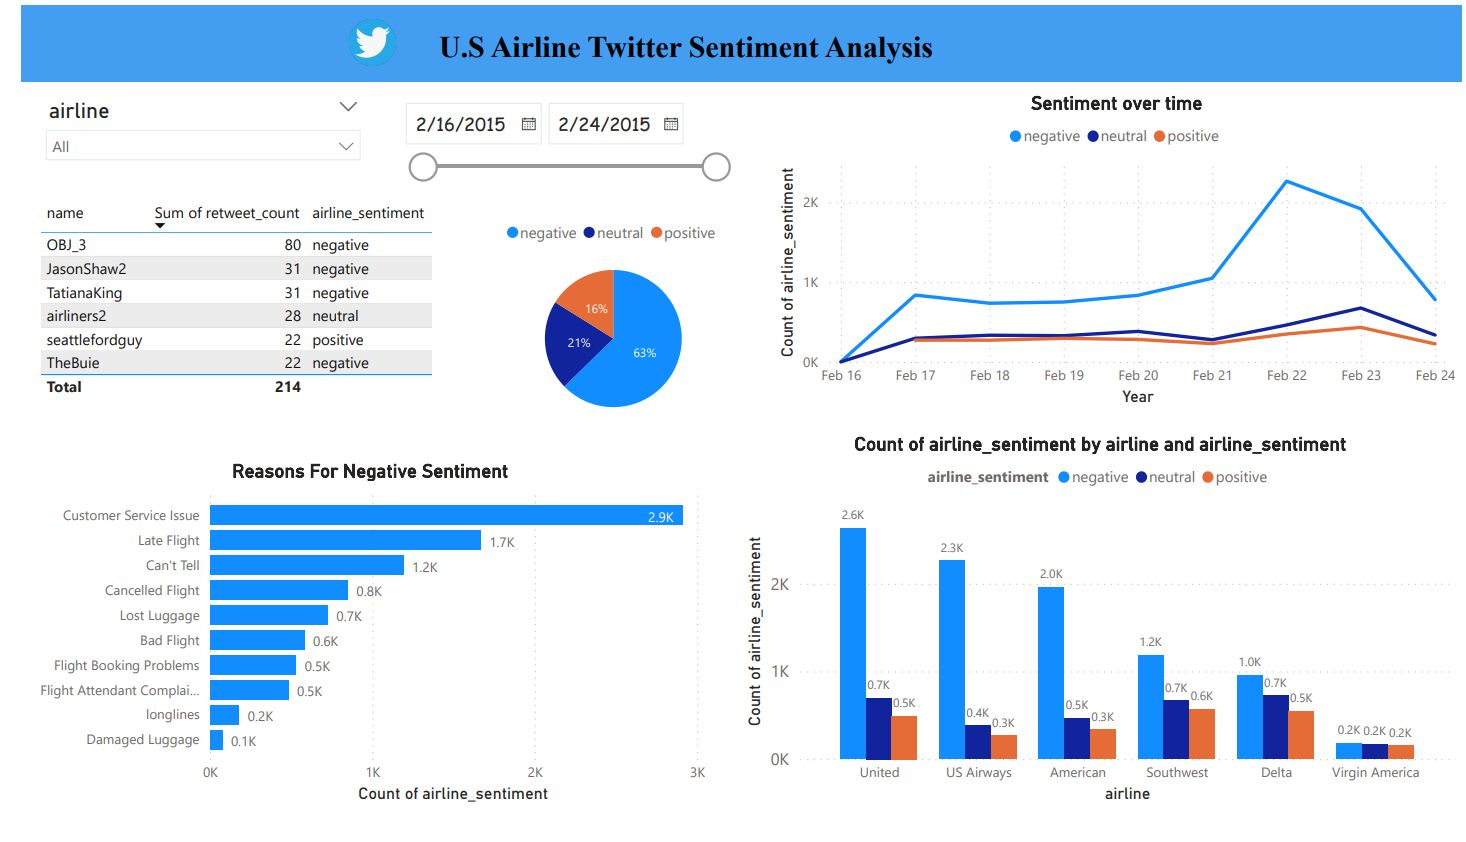

This screenshot's page, from the dashboard's own definition file:
{"tool":"powerbi","page":{"name":"Page 1","canvas":[1280,720],"ordinal":0},"visuals":[{"type":"textbox","box":[0,0,1279.6,67.5],"z":0},{"type":"image","box":[270.2,7.2,84.4,53.1],"z":1000},{"type":"slicer","title":"Sentiment over ttime","fields":{"Values":["Tweets_.airline"]},"box":[12.1,77.2,300.3,76],"z":2000},{"type":"slicer","title":"Tweet Creation","fields":{"Values":["Tweets_.tweet_created"]},"box":[329.2,77.2,309.9,88],"z":3000},{"type":"barChart","title":"Reasons For Negative Sentiment","fields":{"Category":["Tweets_.negativereason"],"Y":["Tweets_.airline_sentiment"]},"box":[0,404,621.1,309.9],"z":4000},{"type":"clusteredColumnChart","fields":{"Category":["Tweets_.airline"],"Y":["Tweets_.airline_sentiment"],"Series":["Tweets_.airline_sentiment"]},"box":[639.2,379.9,640.4,334.1],"z":5000},{"type":"lineChart","title":"Sentiment over time","fields":{"Y":["Tweets_.airline_sentiment"],"Category":["Tweets_.tweet_created.Variation.Date Hierarchy.Year","Tweets_.tweet_created.Variation.Date Hierarchy.Month","Tweets_.tweet_created.Variation.Date Hierarchy.Day"],"Series":["Tweets_.airline_sentiment"]},"box":[668.1,77.2,611.5,283.4],"z":6000},{"type":"pieChart","fields":{"Category":["Tweets_.airline_sentiment"],"Y":["Tweets_.airline_sentiment"]},"box":[384.7,182.1,283.4,200.2],"z":7000},{"type":"tableEx","fields":{"Values":["Tweets_.name","Tweets_.retweet_count","Tweets_.airline_sentiment"]},"box":[12.1,168.8,372.7,211.1],"z":8000}]}

Visuals, with their boxes in screenshot pixels (x1, y1, x2, y2), scaled from the page's 1280x720 canvas onto the 1466x842 screenshot:
textbox: select_region(0, 0, 1465, 79)
image: select_region(309, 8, 406, 71)
"Sentiment over ttime" slicer: select_region(14, 90, 358, 179)
"Tweet Creation" slicer: select_region(377, 90, 732, 193)
"Reasons For Negative Sentiment" barChart: select_region(0, 472, 711, 835)
clusteredColumnChart - Tweets_.airline x Tweets_.airline_sentiment: select_region(732, 444, 1465, 835)
"Sentiment over time" lineChart: select_region(765, 90, 1465, 422)
pieChart - Tweets_.airline_sentiment x Tweets_.airline_sentiment: select_region(441, 213, 765, 447)
tableEx - Tweets_.name x Tweets_.retweet_count: select_region(14, 197, 441, 444)
